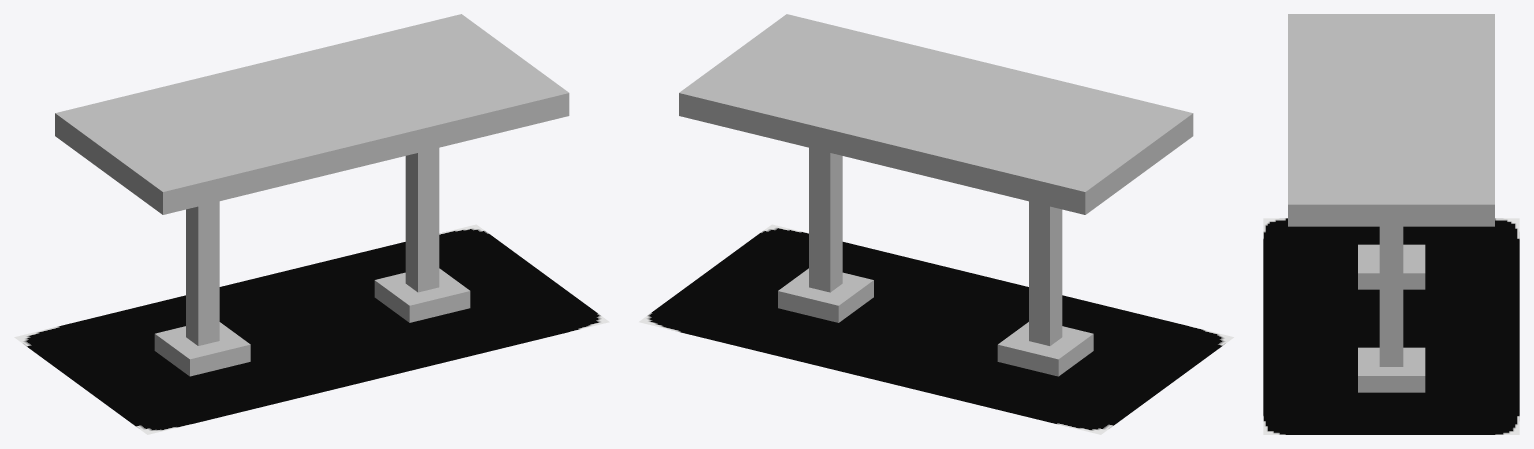
The model's file is jj_ty_table10_01.FBX.
The picture shows the model from 3 angles, left to right: view 1: azimuth 30°, elevation 25°; view 2: azimuth 150°, elevation 25°; view 3: azimuth 270°, elevation 25°; orthographic projection. The views are drawn at different scales.
Parts seen in each view (by area): view 1: jj_ty_table10_01, shadow; view 2: jj_ty_table10_01, shadow; view 3: jj_ty_table10_01, shadow.
Boxes of the visible parts, left/top/right/bottom form: jj_ty_table10_01: left=55, top=14, right=569, bottom=376; shadow: left=14, top=224, right=609, bottom=434; jj_ty_table10_01: left=679, top=14, right=1193, bottom=376; shadow: left=639, top=224, right=1233, bottom=434; jj_ty_table10_01: left=1288, top=14, right=1494, bottom=392; shadow: left=1263, top=218, right=1519, bottom=434.
Size of the model in its own units: 59.06 by 28.06 by 29.53.
